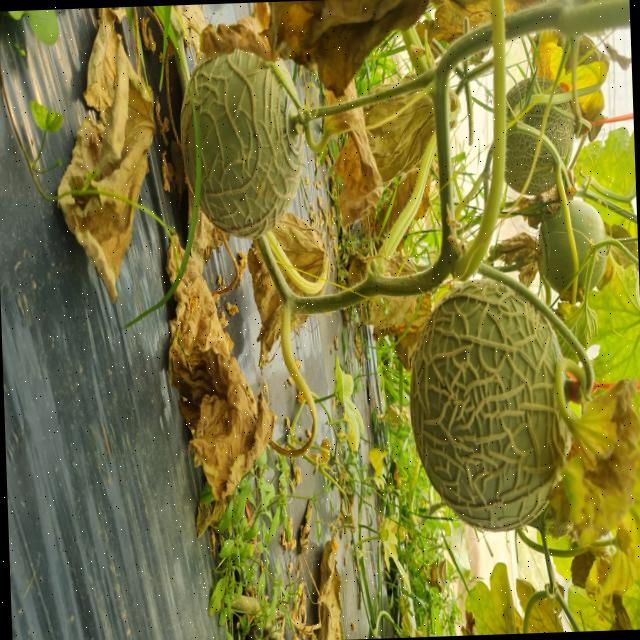melon: (409, 279, 569, 532), (188, 49, 302, 238), (179, 93, 194, 182)
